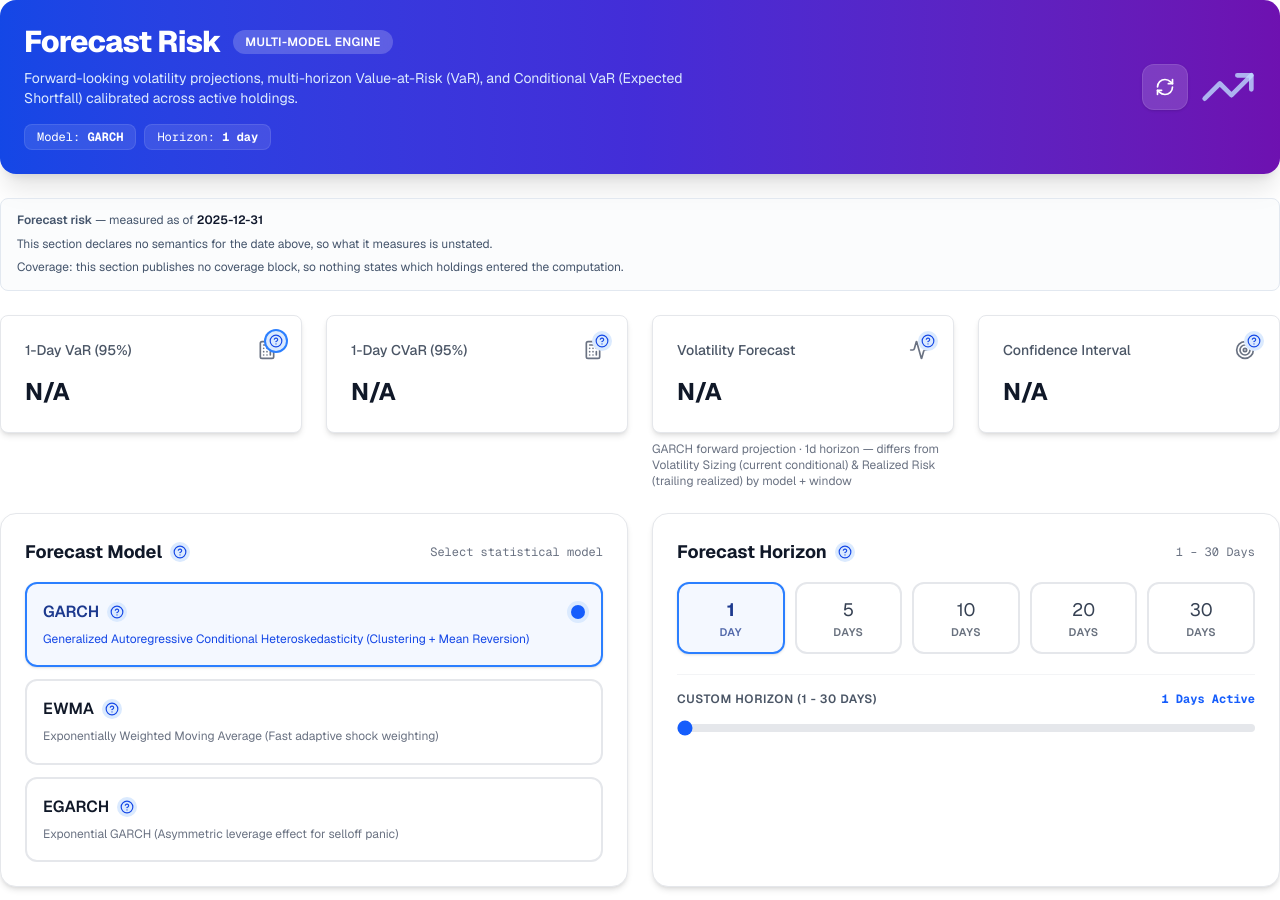
hand-rolled dashboard modals manage focus (Radix Dialog contract) › forecast-risk: the VaR explainer takes focus and gives it back
Click the button named "Learn about Value at Risk (VaR 95%)" at (276, 340), box [266,330,286,350]
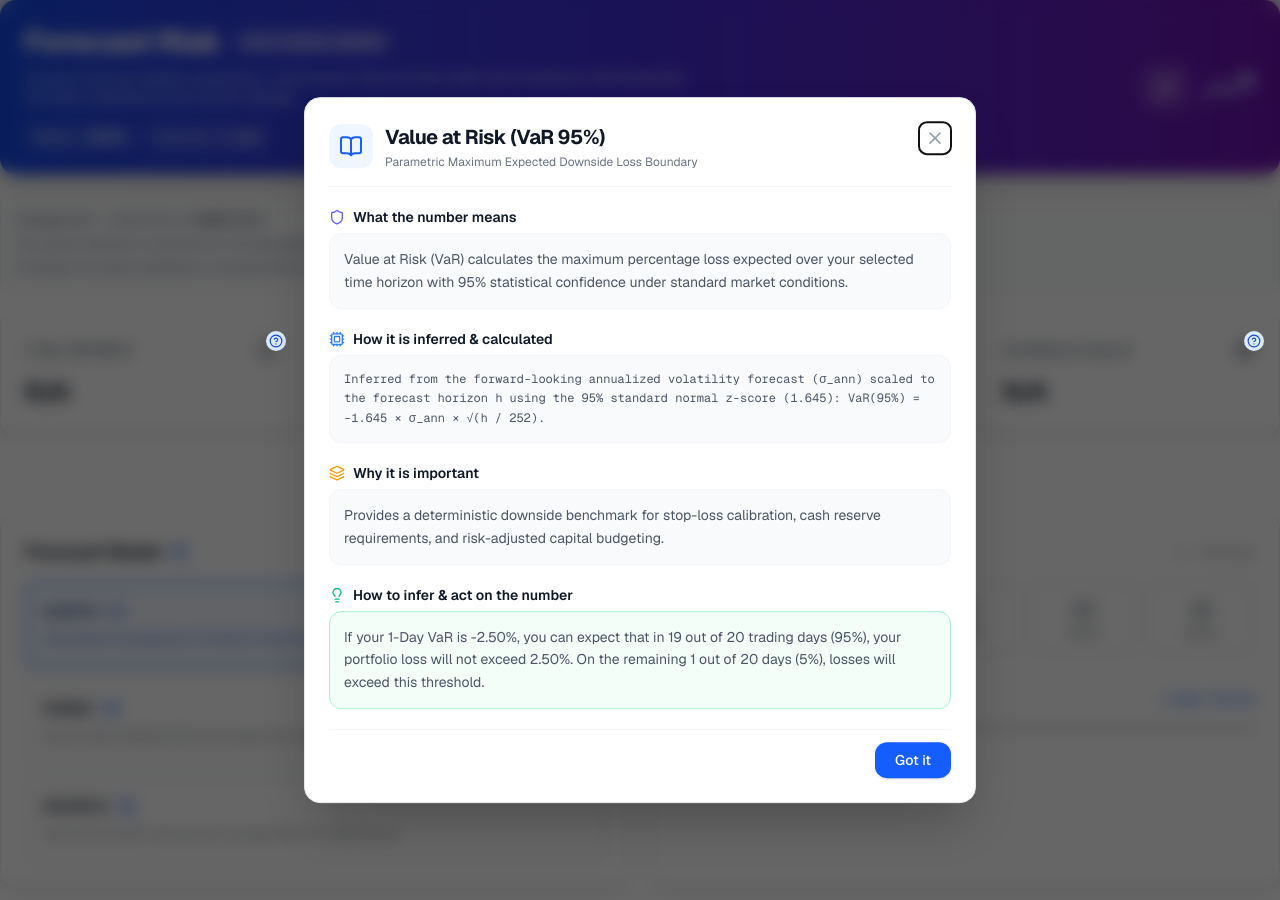
Press Escape
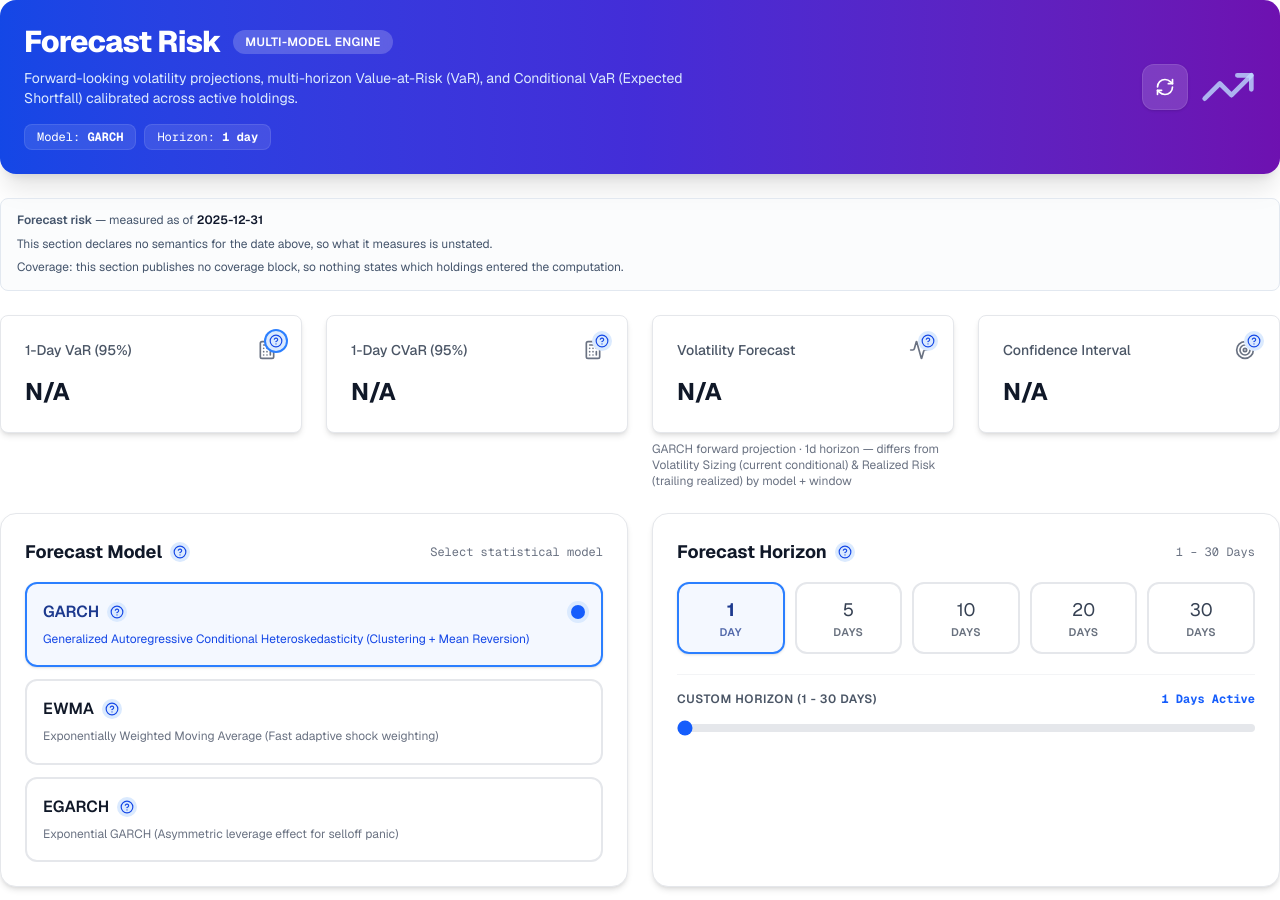
Expected: the dialog is gone
